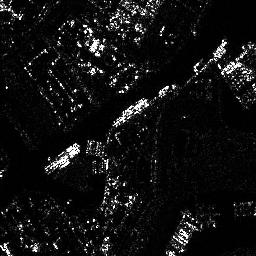ship: (43, 140, 81, 171), (112, 97, 149, 127)
